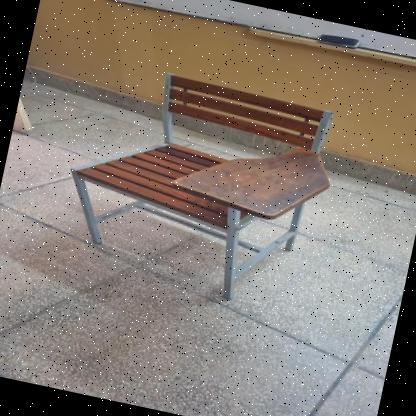chair: (43, 46, 344, 324)
